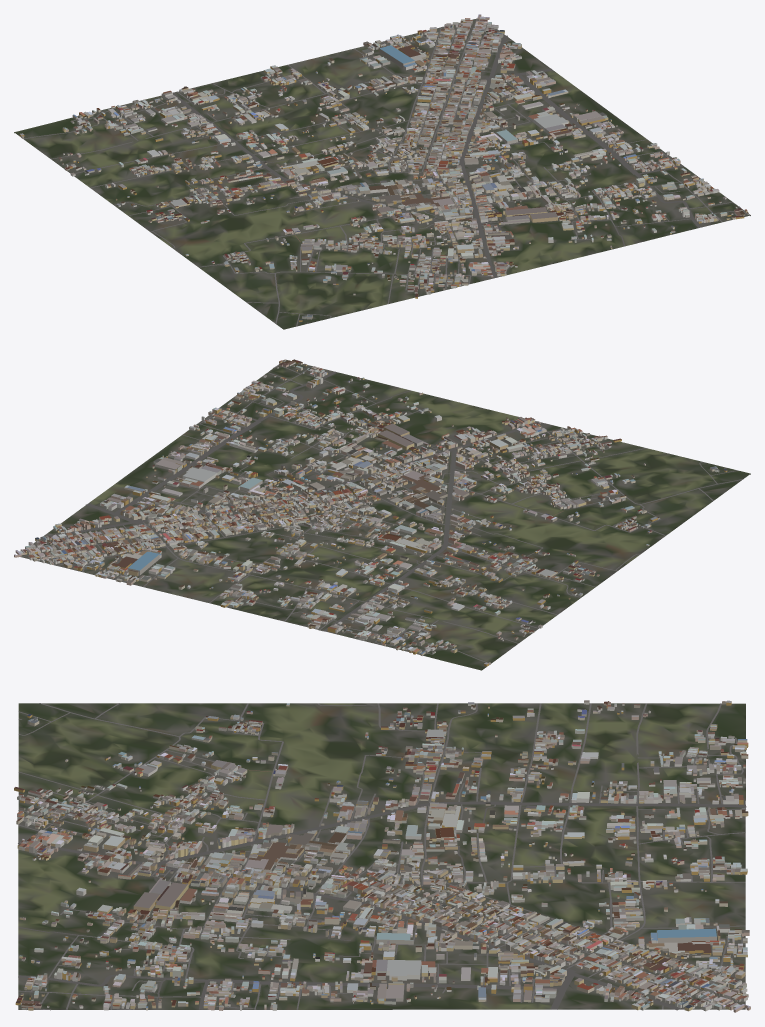
3 renders of one model, top to bottom at view 1: azimuth 30°, elevation 25°; view 2: azimuth 150°, elevation 25°; view 3: azimuth 270°, elevation 25°, orthographic. The views are drawn at different scales.
Parts seen in each view (by area): view 1: ground, buildings, roads; view 2: ground, buildings, roads; view 3: ground, buildings, roads.
Part boxes in pixels (x1,y1,x2,y2): ground: (14,19,750,329); buildings: (19,14,748,321); roads: (23,18,746,326); ground: (21,359,750,670); buildings: (14,359,727,666); roads: (20,361,743,662); ground: (18,703,745,1009); buildings: (14,700,750,1012); roads: (18,703,746,1010).
Bounding box in the file's own units: 1418 × 20.27 × 1419.
